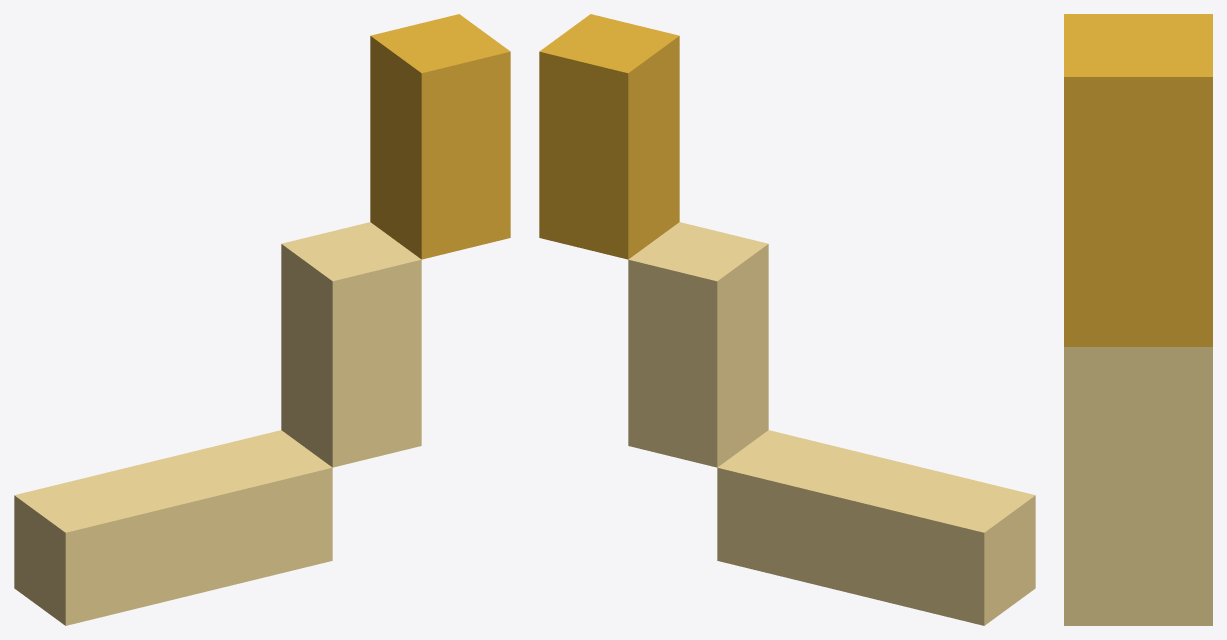
Rendered from human-13-right_hand_attack.obj.
3 renders of one model, left to right at view 1: azimuth 30°, elevation 25°; view 2: azimuth 150°, elevation 25°; view 3: azimuth 270°, elevation 25°, orthographic. The views are drawn at different scales.
Visible parts, largest first — view 1: right_hand_attack; view 2: right_hand_attack; view 3: right_hand_attack.
Part boxes in pixels (x1,y1,x2,y2): right_hand_attack: (14, 14, 510, 625); right_hand_attack: (539, 14, 1035, 625); right_hand_attack: (1064, 14, 1212, 625).
Bounding box in the file's own units: 0.5 × 0.5 × 0.1.
1 material, 1 textured.
